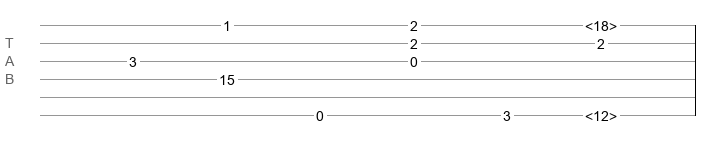0: (316, 108, 324, 118), (410, 54, 418, 64)
1: (223, 18, 231, 28)
15: (219, 72, 235, 82)
2: (410, 36, 418, 46), (410, 18, 418, 28), (597, 36, 605, 46)
3: (129, 54, 137, 64), (503, 108, 511, 118)
harmonic: (585, 108, 617, 118), (585, 18, 617, 28)
